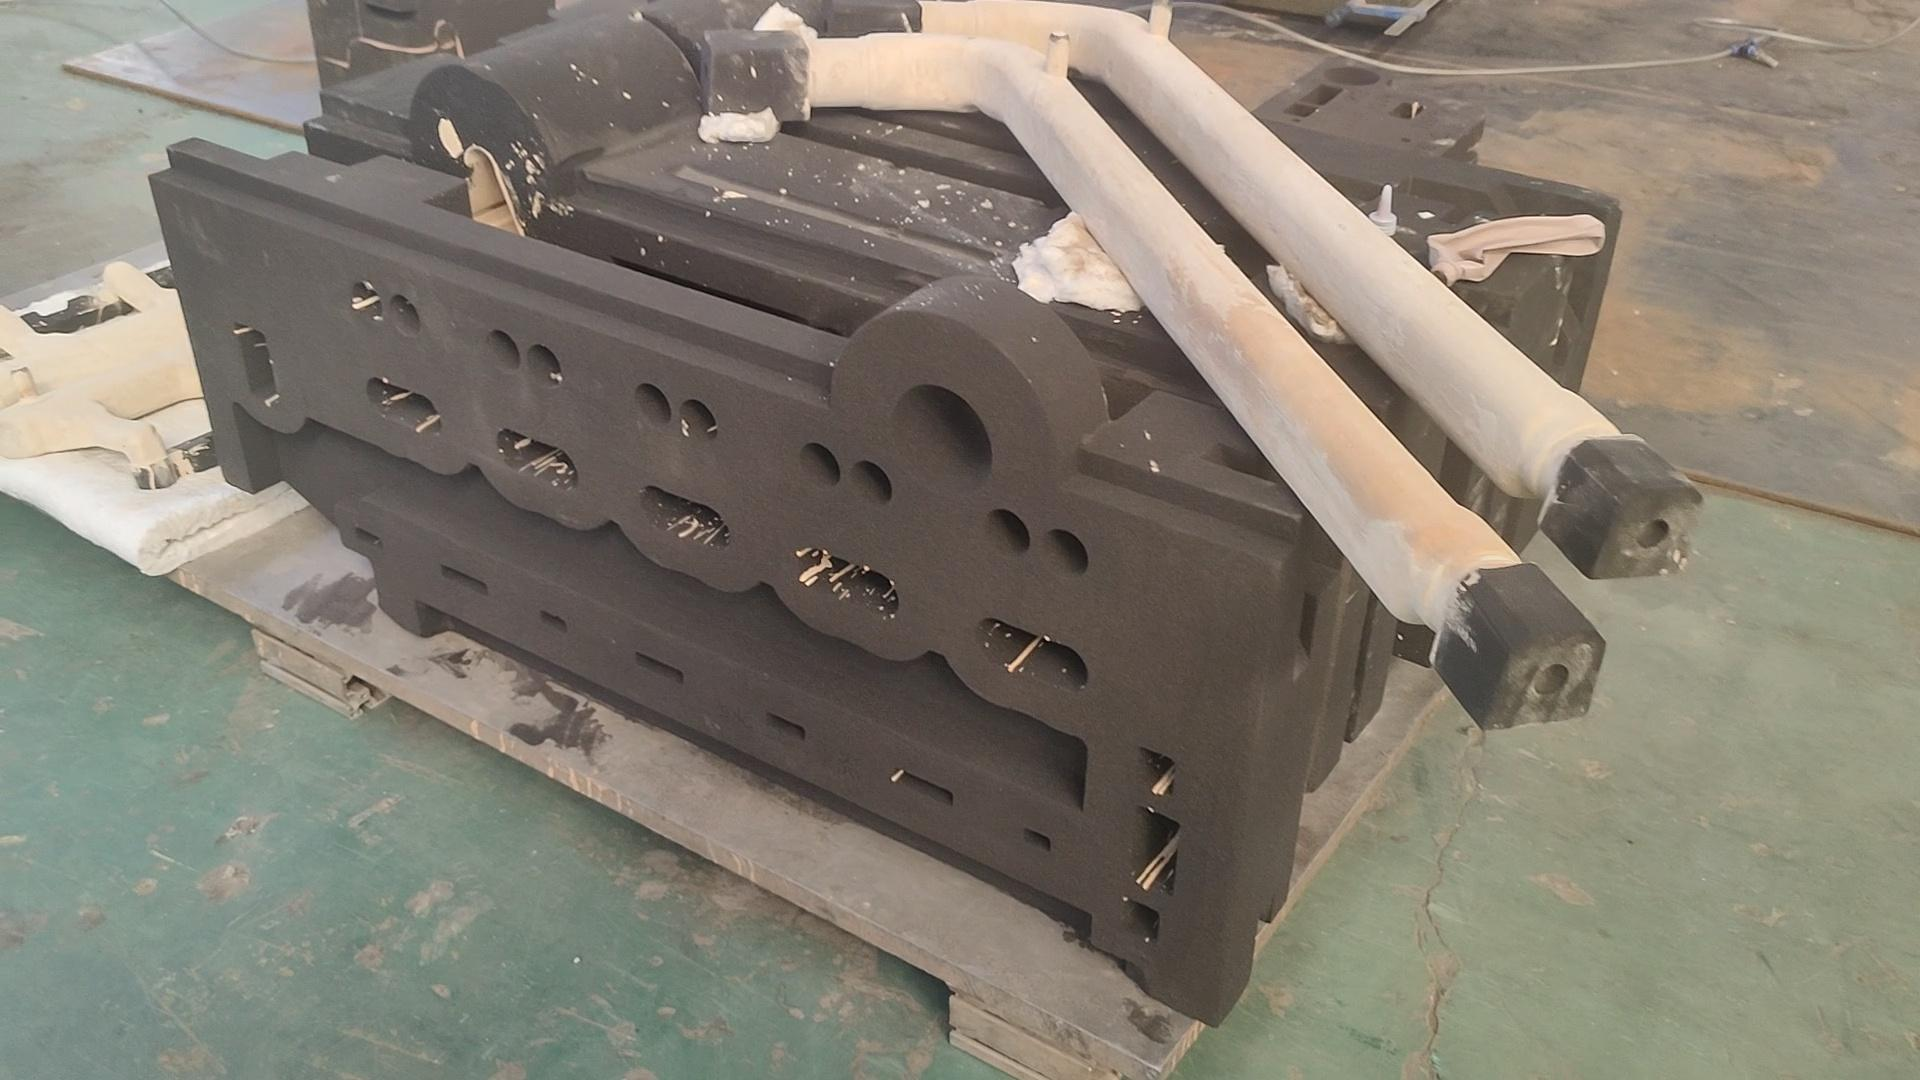pouring hole: (887, 382, 996, 498), (1320, 61, 1383, 88)
